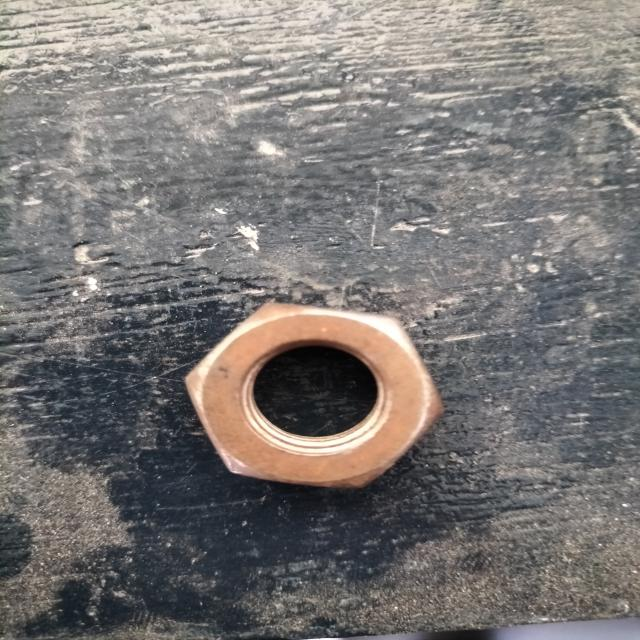nuts: (186, 302, 444, 488)
